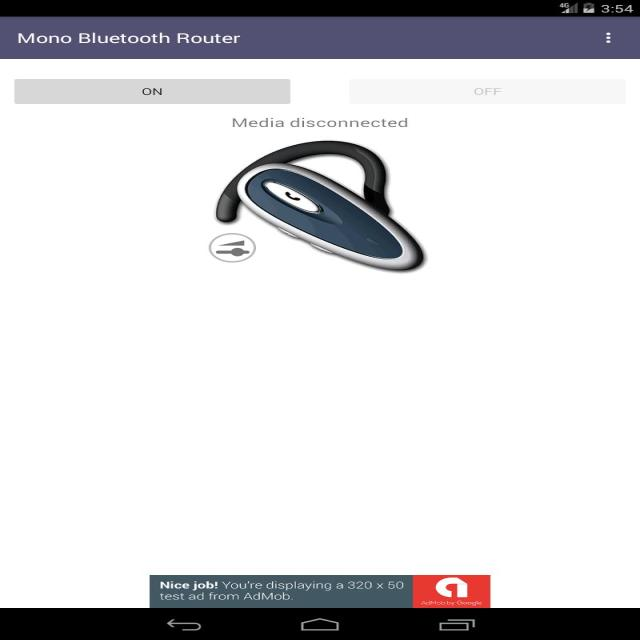button: (15, 79, 291, 103), (352, 80, 624, 103), (599, 28, 620, 48)
heading: (12, 27, 244, 50)
iframe: (150, 574, 488, 608)
image: (199, 140, 432, 276)
text: (228, 116, 410, 130)
